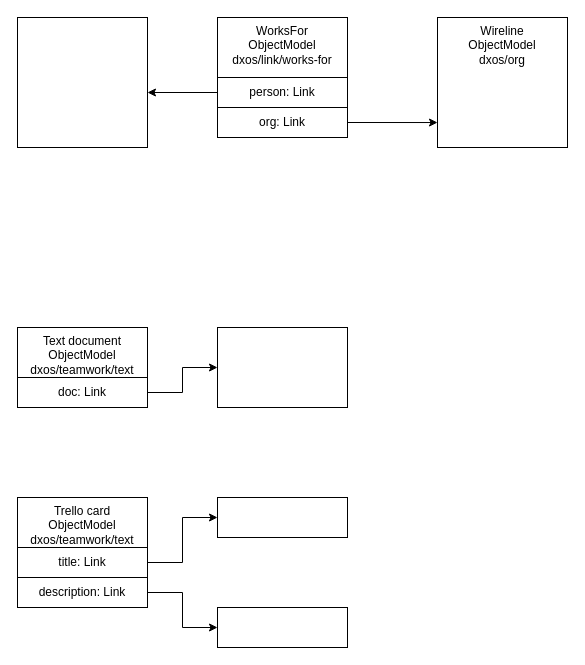
Image size: 585x665. Some labels were removed from this diagram. The centre of each missing label's shape, as x and y in pixels:
"Description TextModel" goes at [282,627].
"Rich ObjectModel dxos/person" goes at [82,82].
"Text editor TextModel" goes at [282,367].
"Title TextModel" goes at [282,517].
